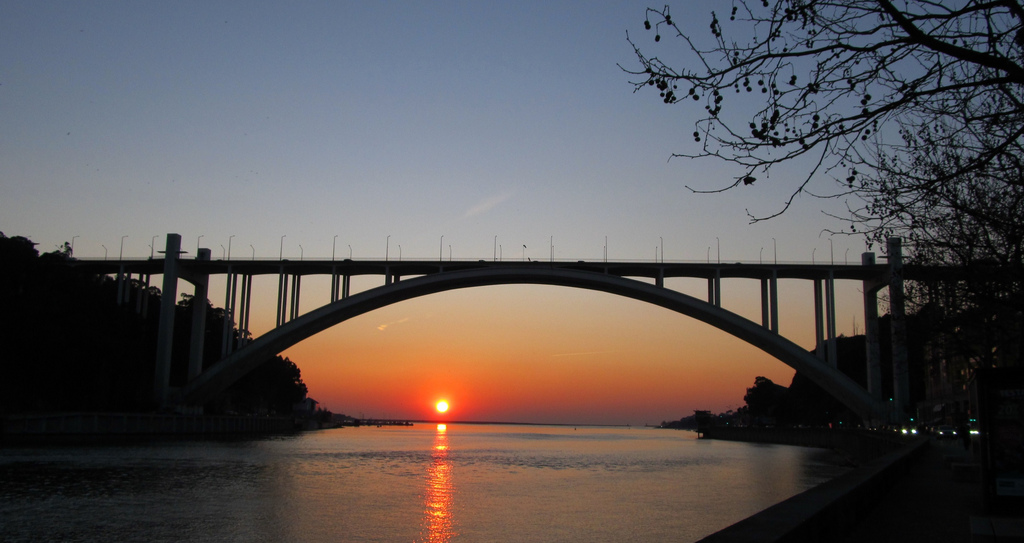arrabida: (70, 230, 1023, 424)
